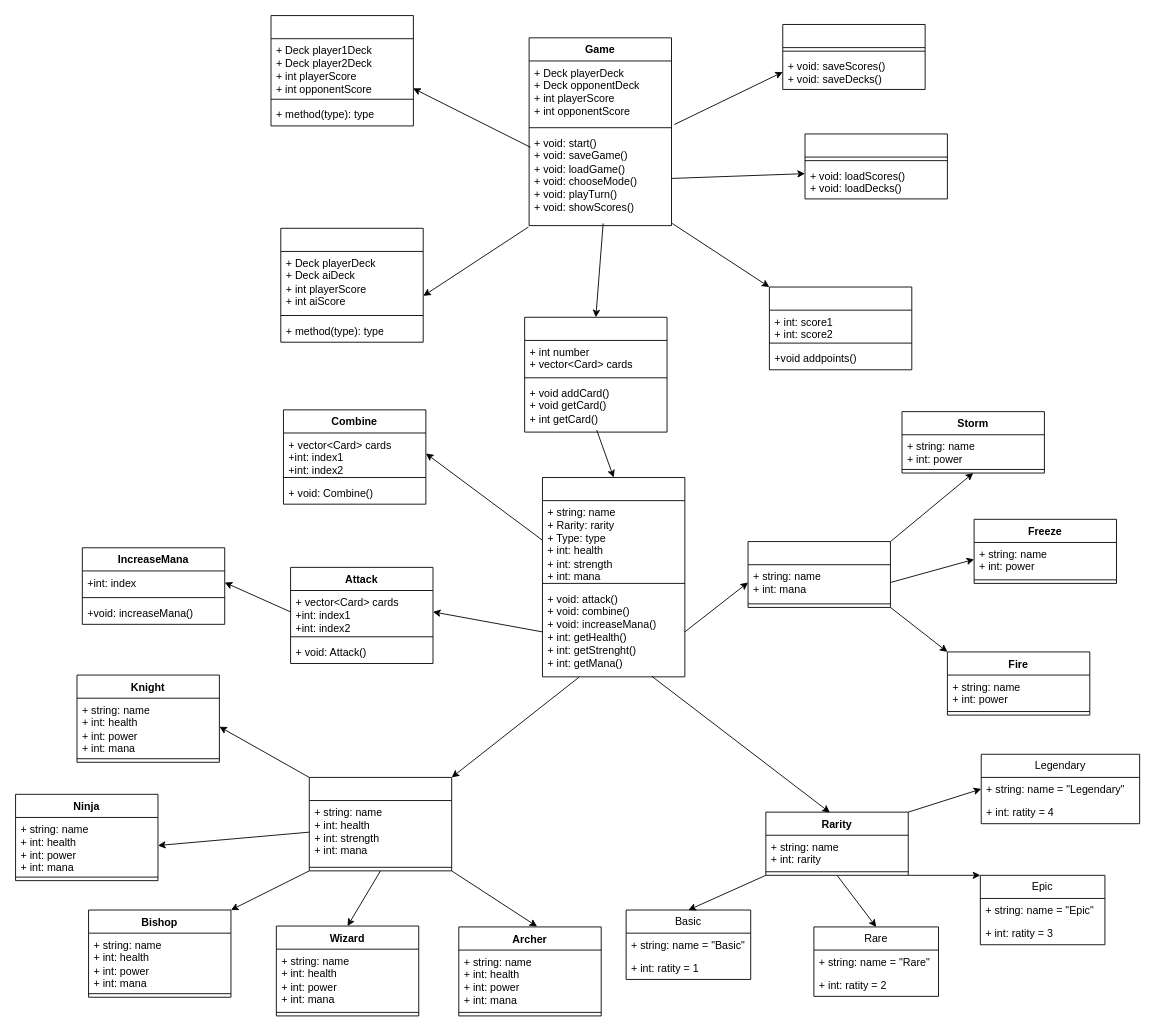
This 1155x1032 diagram has some shape labels left out. The shapes that lost their labels are listed below. From the top down, each one's box as (x1, y1, x2, y2) in pixels, then its label:
(270, 15, 413, 126): PVP
(782, 24, 925, 89): SaveGame
(804, 133, 947, 199): LoadGame
(280, 227, 423, 342): PvE
(769, 286, 912, 370): Gamescore
(524, 316, 667, 432): Deck
(542, 477, 685, 677): Card
(747, 541, 890, 607): SuperPower
(308, 777, 452, 871): Type
